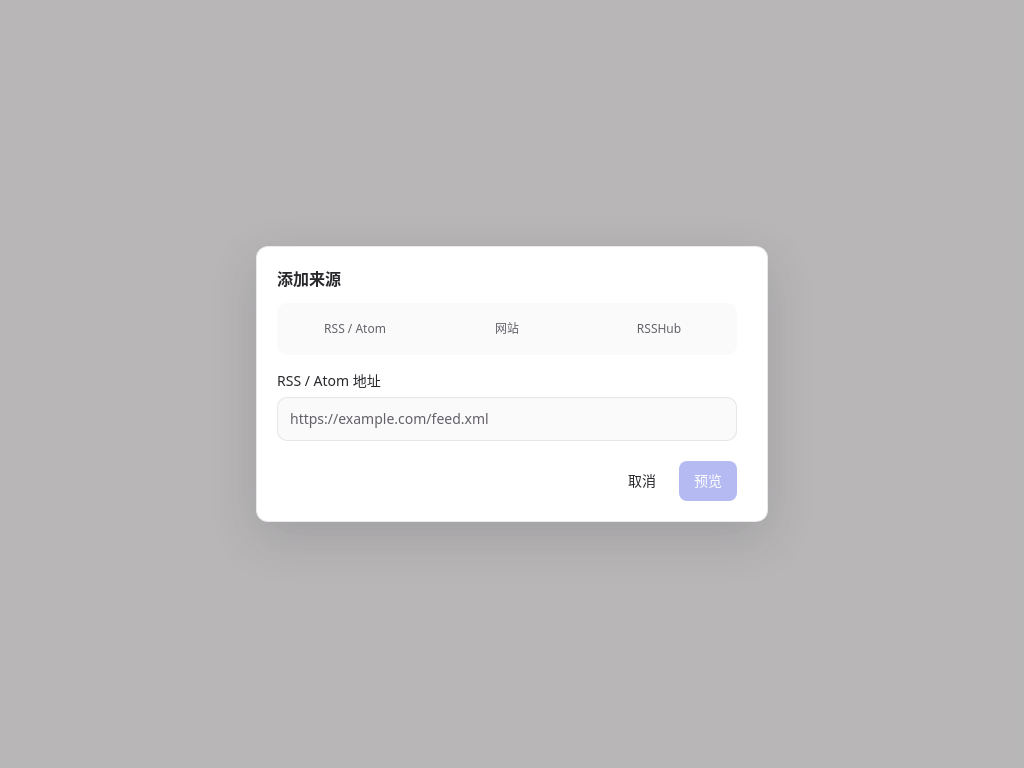
Test: AddSourceDialog — 网站发现 › no_feed_discovered：诚实文案
Click the tab "网站" at (507, 329), box left=433, top=307, right=581, bottom=351
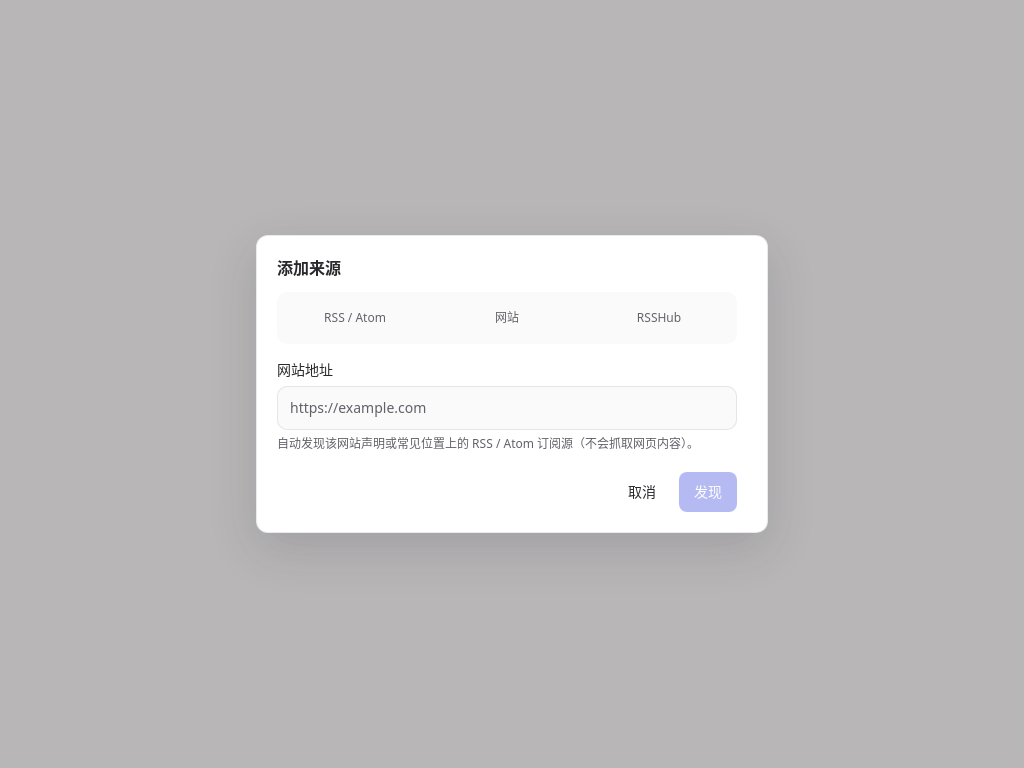
Type "https://blog.example.com/" into the field labelled "网站地址" at (507, 408), box left=277, top=386, right=737, bottom=430
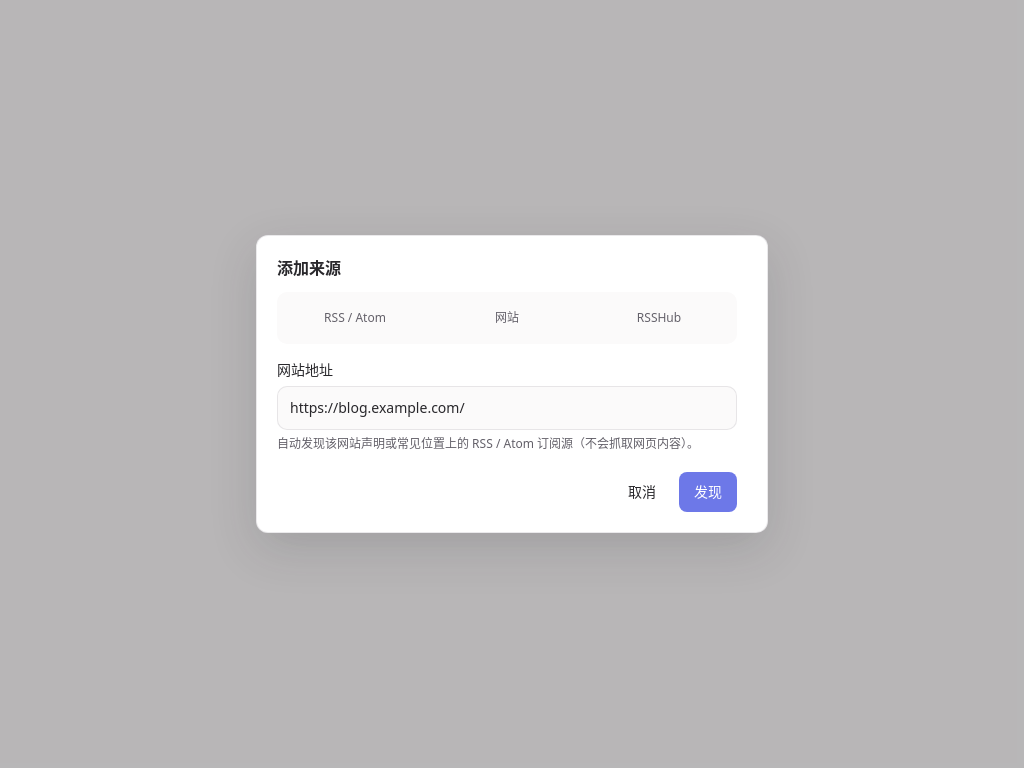
Click the button "发现" at (708, 492), box left=679, top=472, right=737, bottom=512
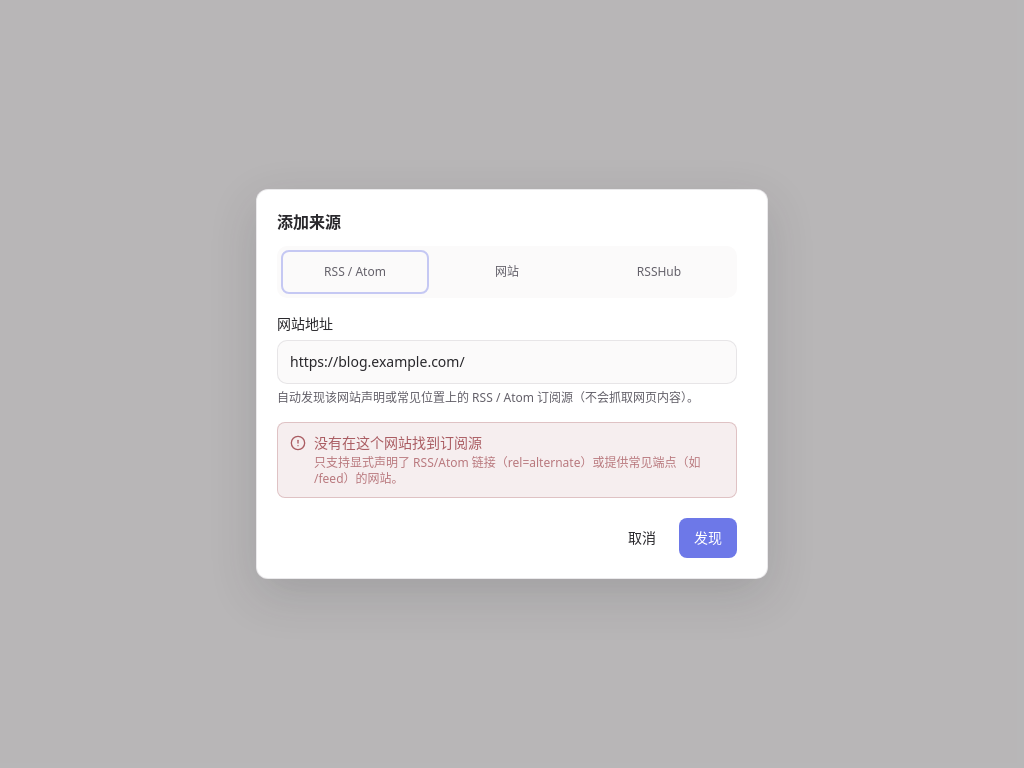
expect the text "没有在这个网站找到订阅源" is shown: met, box left=314, top=433, right=482, bottom=452
